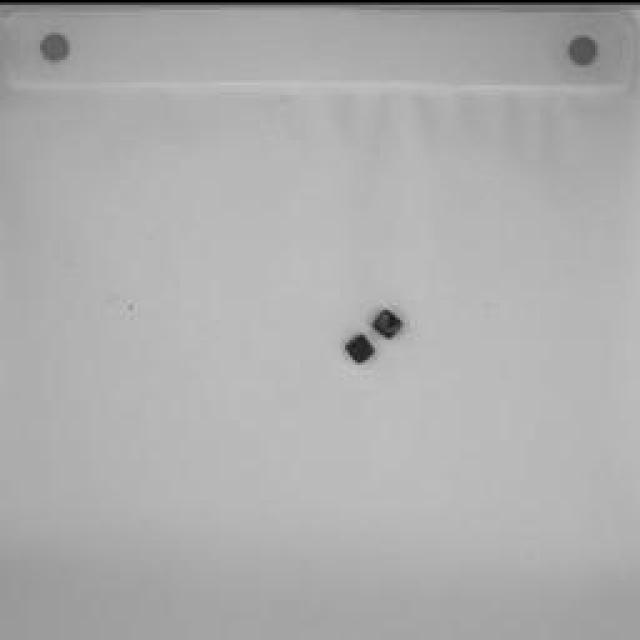dice_1: (373, 304, 405, 334)
dice_5: (345, 330, 375, 362)
